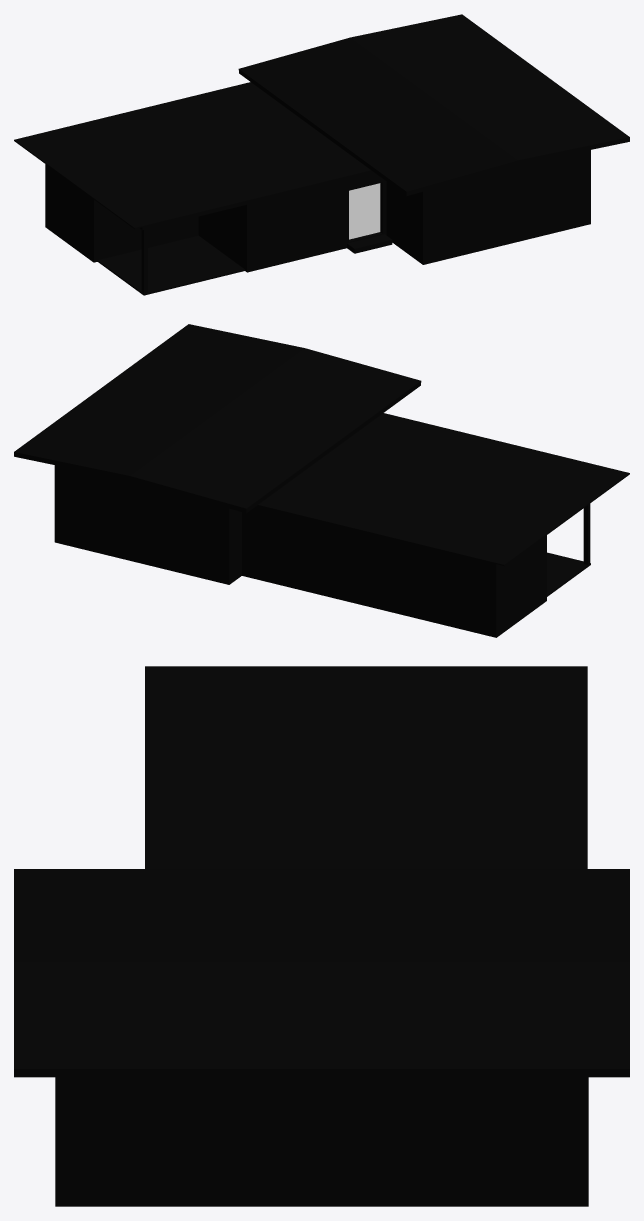
File: GoodspringsHome01Collider.obj
3 views of the same model, one above another, from view 1: azimuth 30°, elevation 25°; view 2: azimuth 150°, elevation 25°; view 3: azimuth 270°, elevation 25° (orthographic). The views are drawn at different scales.
Parts seen in each view (by area): view 1: collision; view 2: collision; view 3: collision.
Part boxes in pixels (x1=…): collision: x1=14, y1=14, x2=629, y2=295; collision: x1=14, y1=324, x2=629, y2=637; collision: x1=14, y1=666, x2=629, y2=1206.
Bounding box in the file's own units: 1403 × 270 × 887.
